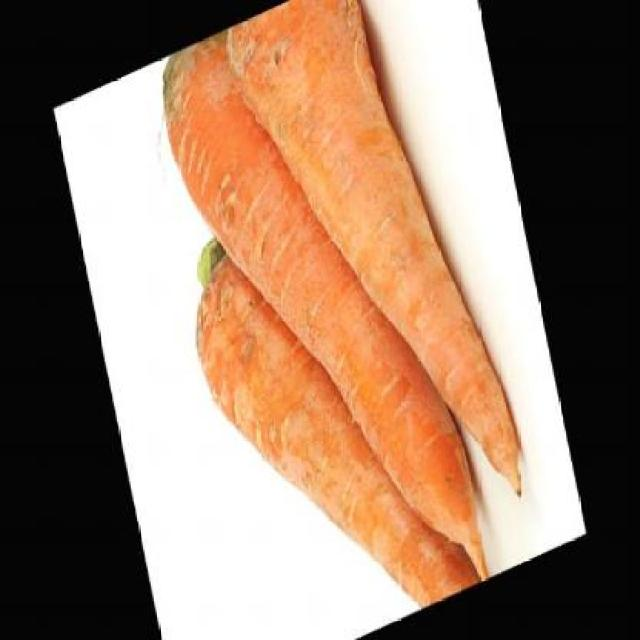carrot: (151, 0, 494, 638), (224, 0, 530, 578), (180, 167, 497, 638)
